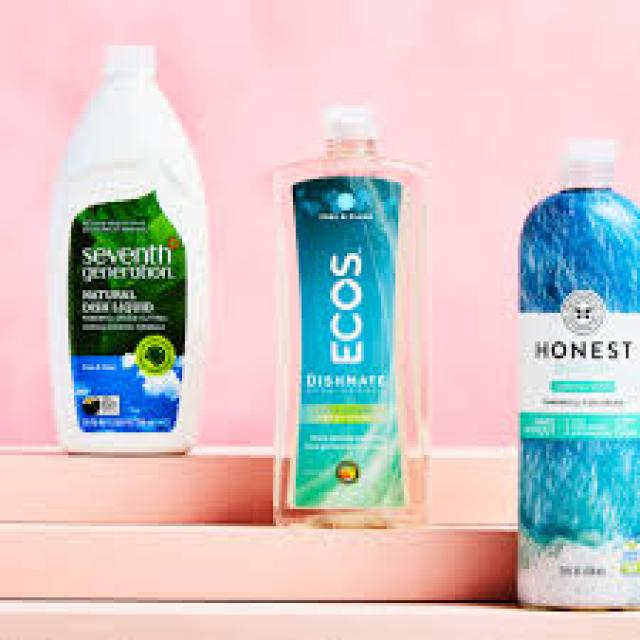liquid soap: (256, 93, 421, 534), (47, 32, 213, 466), (506, 128, 640, 640)
